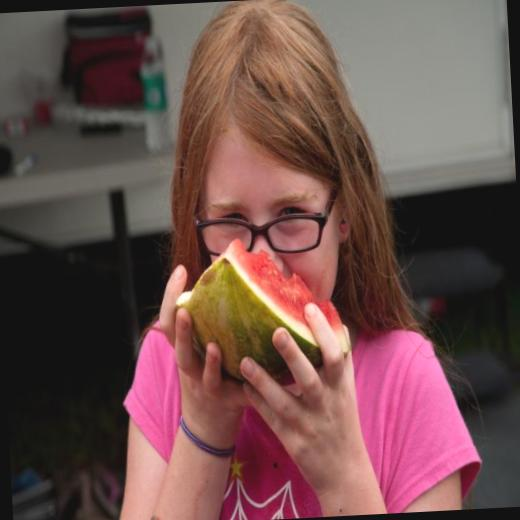Cherry: (169, 232, 354, 388)
